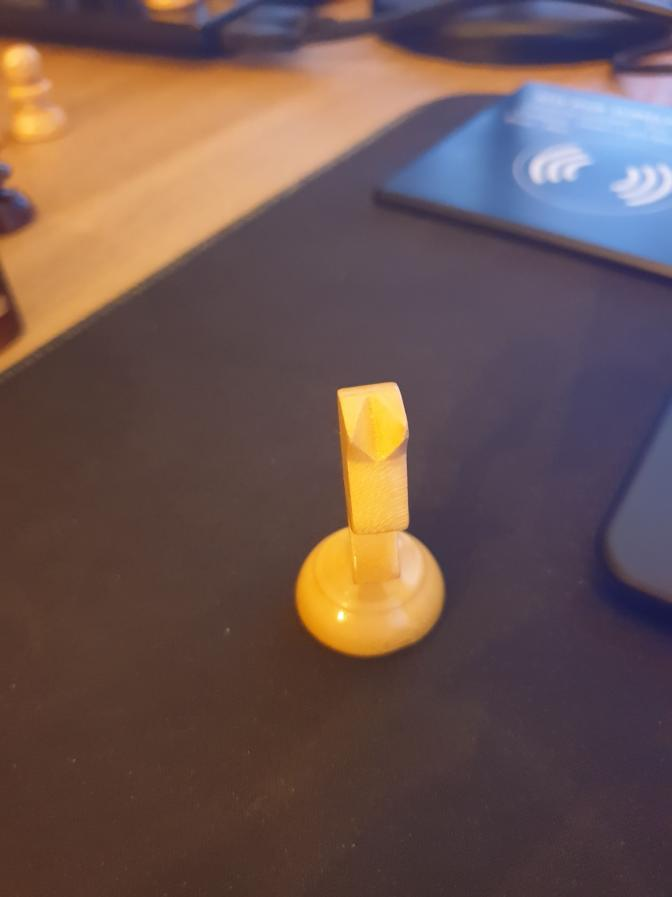wknight: (292, 382, 448, 656)
